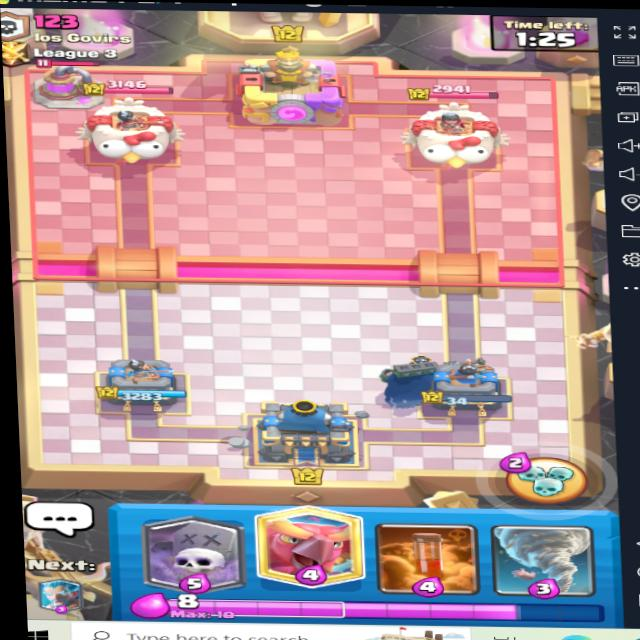elixir-collector: (26, 60, 112, 111)
